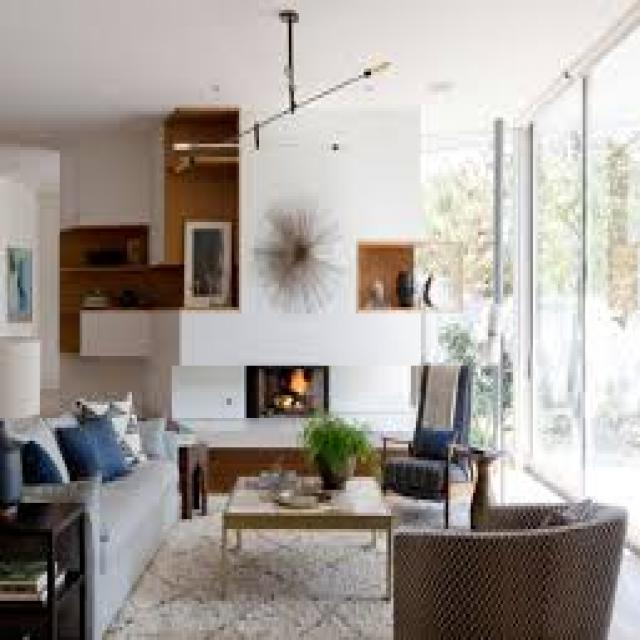noobs: (106, 512, 392, 638), (485, 467, 640, 635), (166, 411, 462, 488)
obs: (0, 408, 182, 638), (393, 502, 625, 638), (222, 473, 391, 600), (382, 363, 480, 527), (455, 446, 502, 535), (165, 434, 209, 518)
